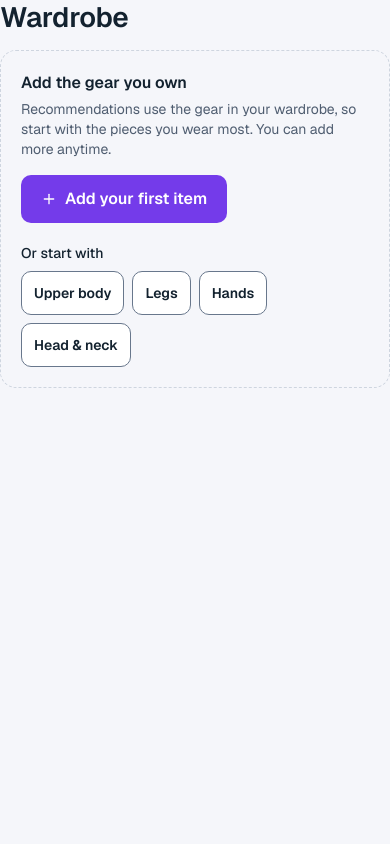
Test: Wardrobe page › explains an empty wardrobe and starts adding from a body area
Expected: the heading "Add the gear you own" is shown, [21,72,187,93]
Click the button "Hands": (233, 293) [199,271,267,315]
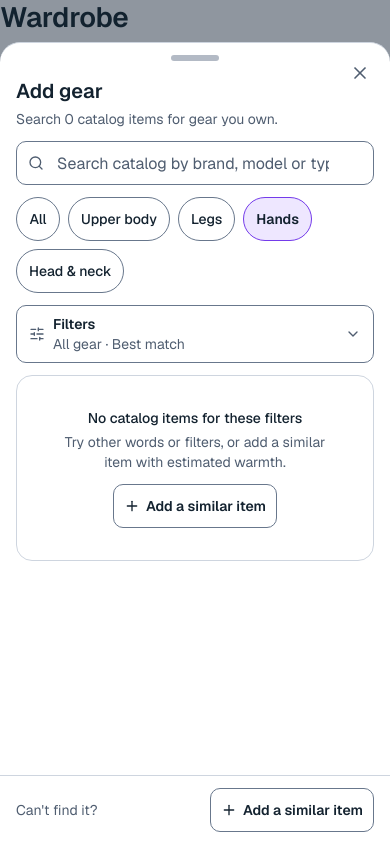
Result: the button "Hands" is shown at [243,197,312,241]
